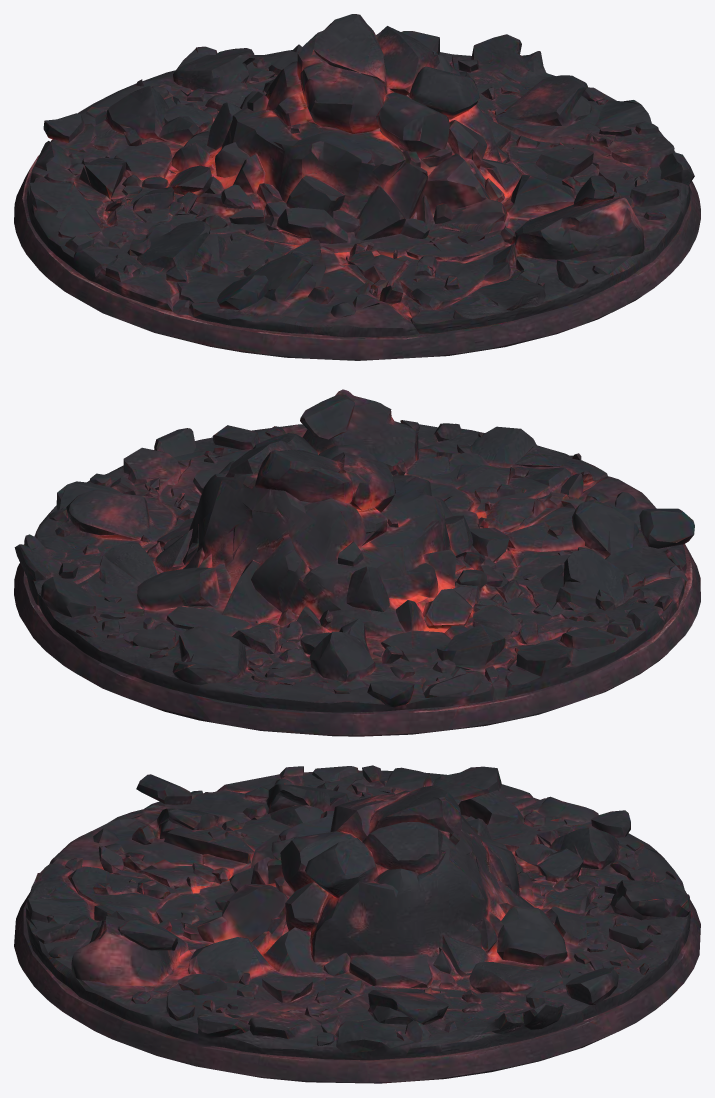
File: min2-black_iron-final.glb
The picture shows the model from 3 angles, top to bottom: view 1: azimuth 30°, elevation 25°; view 2: azimuth 150°, elevation 25°; view 3: azimuth 270°, elevation 25°; orthographic projection.
Parts seen in each view (by area): view 1: Mesh_0; view 2: Mesh_0; view 3: Mesh_0.
Part boxes in pixels (x1,y1,x2,y2): Mesh_0: (14, 14, 700, 360); Mesh_0: (14, 389, 700, 736); Mesh_0: (14, 765, 700, 1083).
Size of the model in its own units: 3.85 by 1 by 3.85.
1 material, 1 textured.
